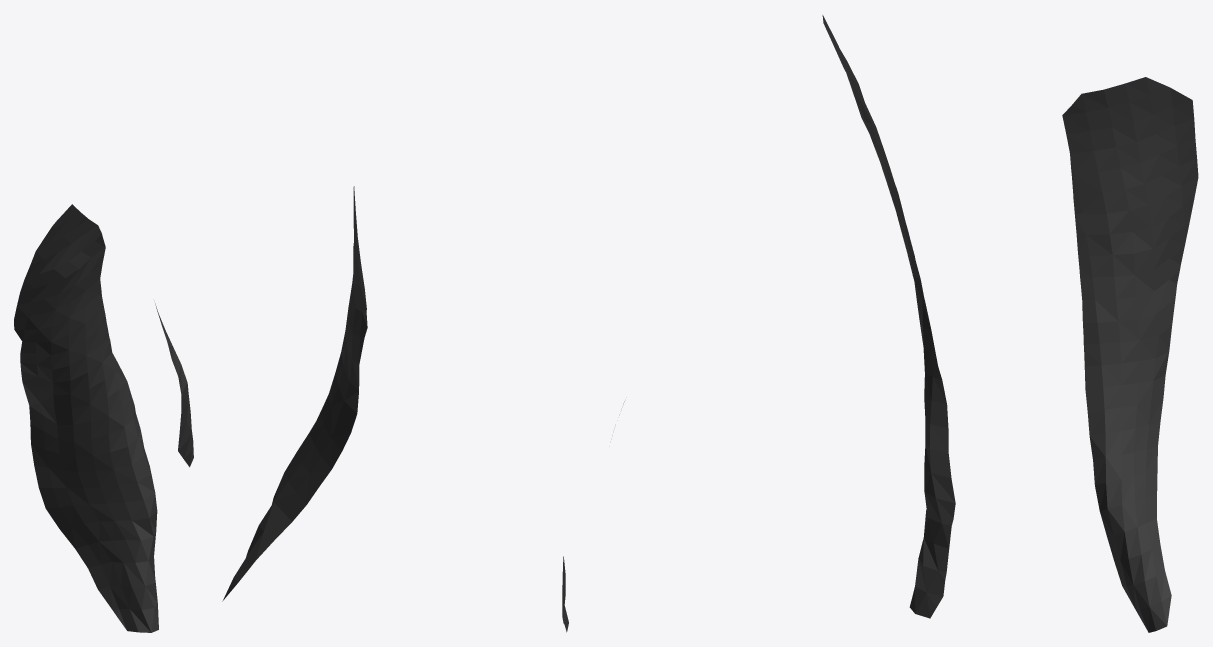
File: eq_dist_limb_Axial_Palmar_Ligg.glb
The picture shows the model from 3 angles, left to right: view 1: azimuth 30°, elevation 25°; view 2: azimuth 150°, elevation 25°; view 3: azimuth 270°, elevation 25°; orthographic projection. The views are drawn at different scales.
Parts seen in each view (by area): view 1: eq_dist_limb_Axial_Palmar_Ligg; view 2: eq_dist_limb_Axial_Palmar_Ligg; view 3: eq_dist_limb_Axial_Palmar_Ligg.
Boxes of the visible parts, x1,y1,x2,y2 form: eq_dist_limb_Axial_Palmar_Ligg: (14,204,193,632); eq_dist_limb_Axial_Palmar_Ligg: (222,186,624,632); eq_dist_limb_Axial_Palmar_Ligg: (822,15,1198,632).
Bounding box in the file's own units: 0.00375 × 0.00605 × 0.00361.
1 material, 1 textured.
